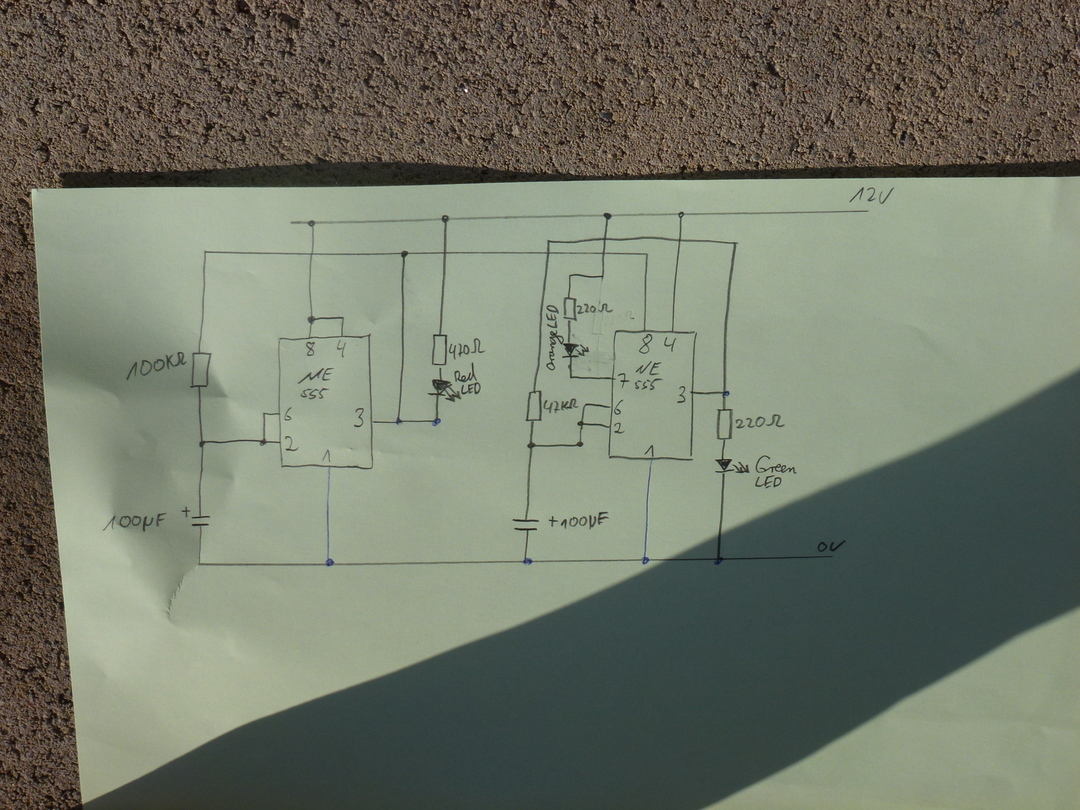capacitor.polarized: (512, 514, 560, 533), (181, 506, 212, 529)
crossover: (439, 247, 451, 258), (307, 248, 317, 259), (599, 234, 611, 243), (675, 235, 685, 245), (543, 248, 554, 256), (599, 249, 609, 257)
diode.light_emitting: (427, 378, 462, 403), (714, 458, 751, 475), (562, 342, 590, 359)
integrated_cricuit.ne555: (277, 333, 375, 471), (607, 329, 698, 461)
junction: (398, 247, 411, 260), (306, 313, 318, 326), (430, 415, 443, 427), (713, 554, 725, 566), (257, 436, 269, 448), (601, 210, 614, 221), (522, 556, 534, 567), (324, 557, 336, 568), (306, 217, 318, 228), (525, 440, 537, 451), (393, 415, 404, 427), (720, 387, 731, 399), (640, 555, 651, 566), (440, 213, 451, 224), (337, 313, 349, 323), (574, 439, 586, 449), (197, 438, 208, 448), (576, 418, 586, 429), (676, 209, 687, 219), (597, 271, 607, 281), (730, 238, 740, 248), (567, 370, 576, 381), (196, 559, 205, 569), (581, 400, 590, 410), (260, 409, 269, 418), (201, 248, 210, 257), (544, 236, 553, 245), (642, 249, 651, 258), (566, 271, 575, 279)
resistor: (189, 351, 213, 389), (430, 332, 448, 368), (715, 407, 734, 441), (525, 389, 543, 423), (562, 296, 578, 323)
terminal: (827, 552, 838, 562), (861, 206, 872, 216)
text: (126, 351, 187, 381), (754, 454, 797, 489), (102, 512, 167, 532), (545, 303, 564, 371), (297, 367, 334, 400), (560, 511, 610, 529), (848, 186, 895, 205), (454, 362, 481, 395), (634, 361, 663, 391), (735, 413, 786, 429), (447, 337, 484, 359), (543, 398, 579, 414), (577, 302, 614, 315), (816, 539, 847, 553), (638, 333, 653, 354), (284, 435, 299, 452), (353, 407, 365, 428), (676, 385, 688, 404), (663, 336, 677, 352), (336, 339, 347, 358), (617, 372, 630, 388), (613, 399, 625, 415), (305, 340, 316, 357), (613, 421, 626, 435), (283, 406, 293, 422), (644, 444, 655, 458), (322, 448, 332, 463)
